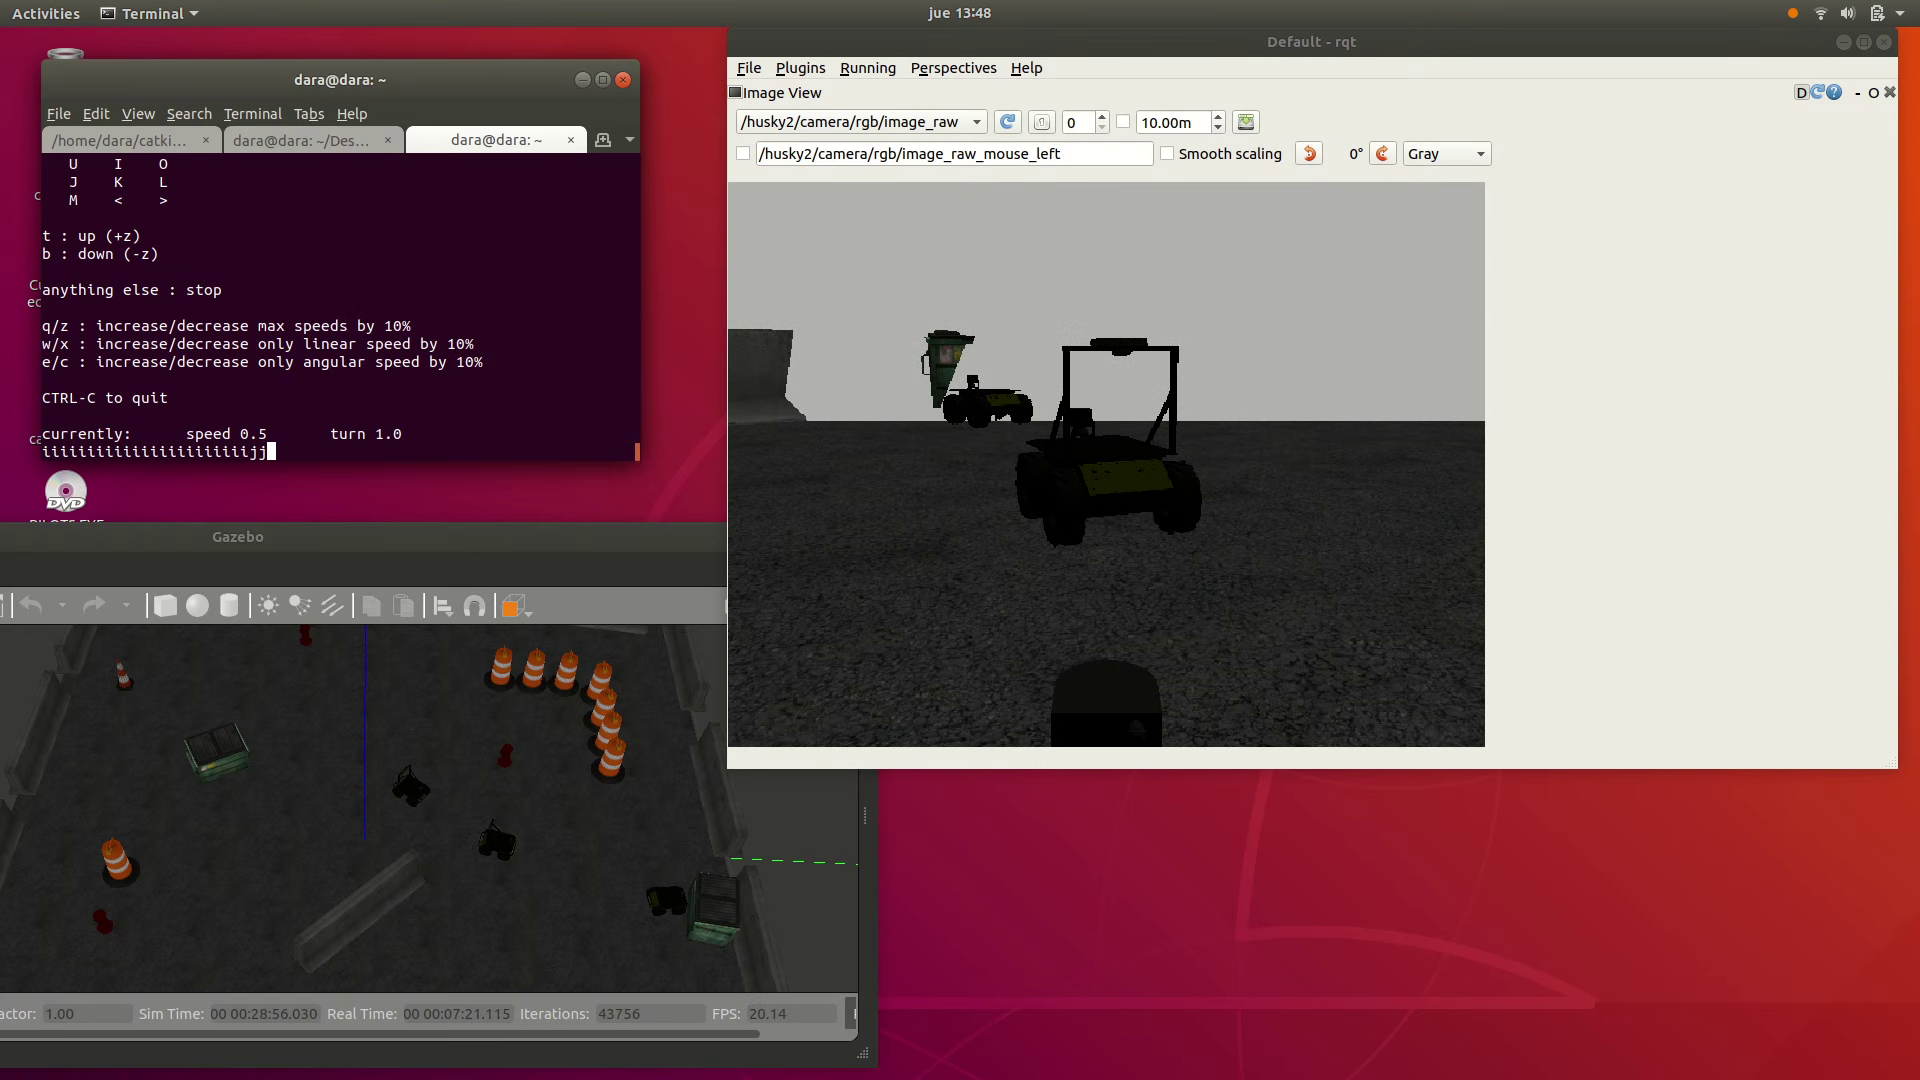husky: (1014, 434, 1203, 547), (943, 389, 1034, 427), (646, 886, 688, 916), (392, 775, 431, 807), (478, 829, 516, 861)
